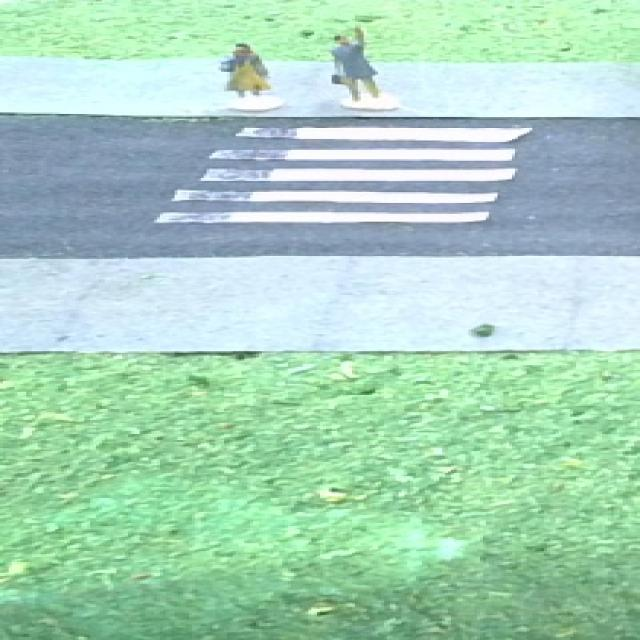person: (324, 22, 406, 114), (214, 38, 290, 116)
